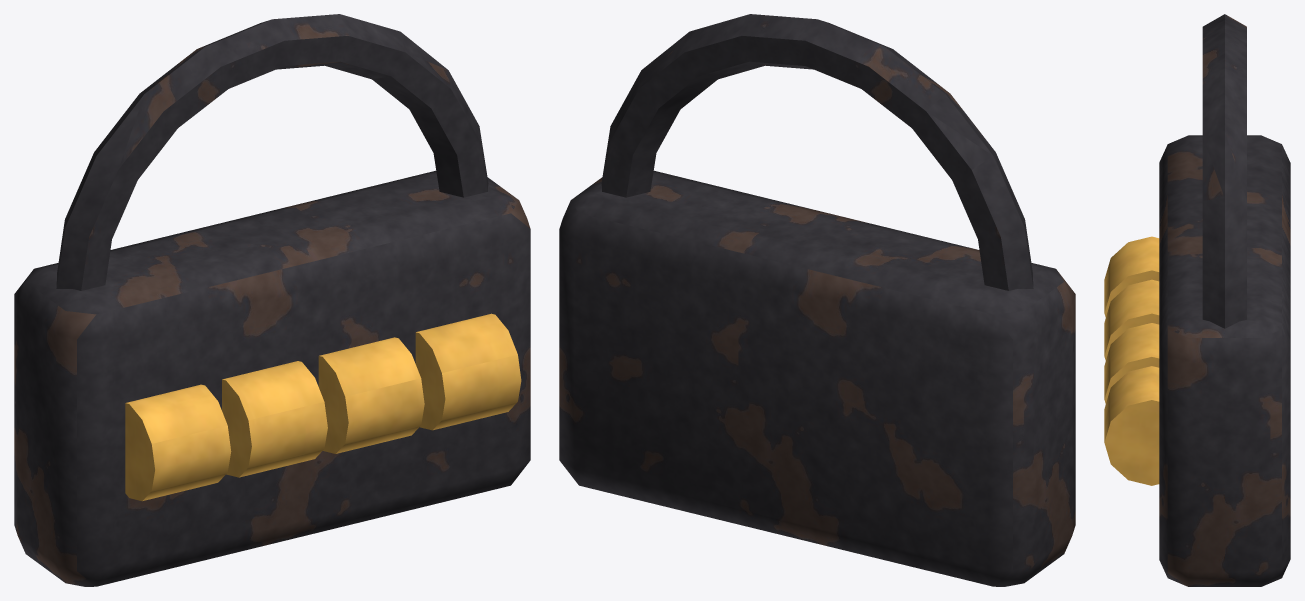
File: dun_lock4.glb
3 views of the same model, side by side, from view 1: azimuth 30°, elevation 25°; view 2: azimuth 150°, elevation 25°; view 3: azimuth 270°, elevation 25° (orthographic). The views are drawn at different scales.
Parts seen in each view (by area): view 1: dun_lock4_iron_0, dun_lock4_gold_0; view 2: dun_lock4_iron_0; view 3: dun_lock4_iron_0, dun_lock4_gold_0.
Boxes of the visible parts, left/top/right/bottom form: dun_lock4_iron_0: left=14, top=14, right=530, bottom=586; dun_lock4_gold_0: left=125, top=313, right=521, bottom=501; dun_lock4_iron_0: left=559, top=14, right=1075, bottom=586; dun_lock4_iron_0: left=1159, top=14, right=1290, bottom=586; dun_lock4_gold_0: left=1104, top=236, right=1159, bottom=485.
Bounding box in the file's own units: 0.68 × 0.695 × 0.255.
Materials: 2 (2 with a texture image).
